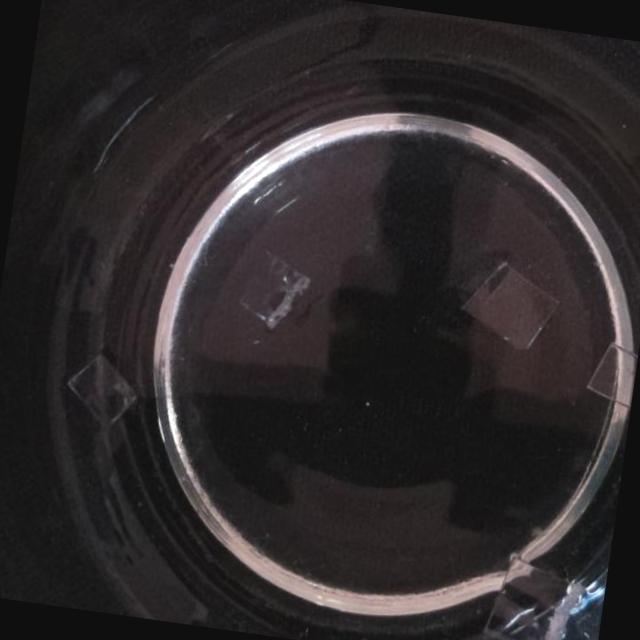fiber: (458, 258, 564, 359), (478, 553, 591, 640), (231, 246, 320, 339), (61, 348, 145, 436), (584, 342, 638, 414)
